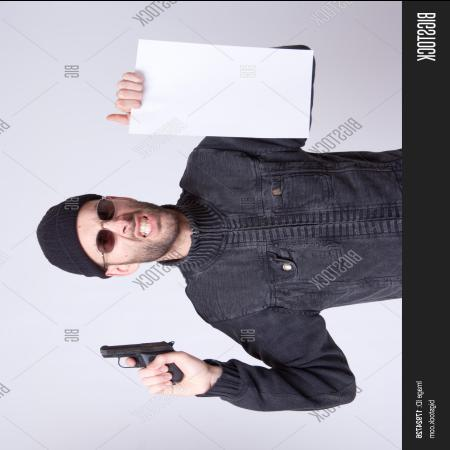Pistol: (99, 337, 182, 386)
